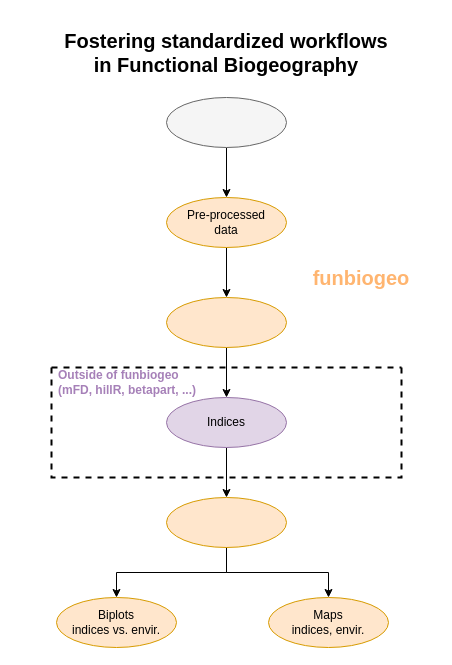
This 452x665 diagram has some shape labels left out. The shapes that lost their labels are listed below. From the top down, each one's centre as x and y in pixels, then its label:
At [226,122]: "Raw data".
At [226,322]: "Exploratory analyses".
At [226,522]: "Visualization".
